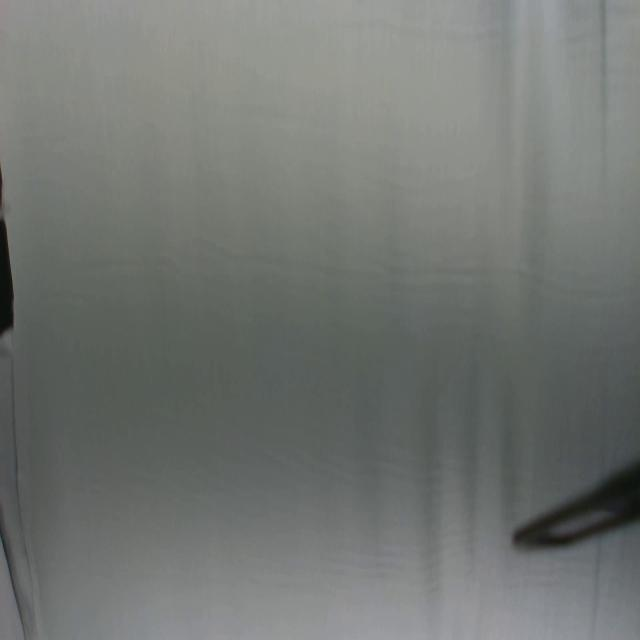crease: (10, 358, 43, 640), (0, 531, 24, 640)
hole: (0, 174, 18, 347)
